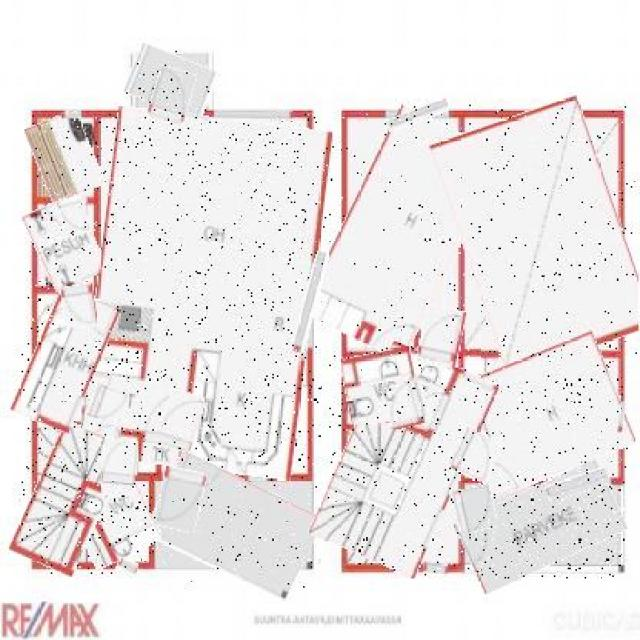door: (155, 468, 203, 530), (419, 306, 463, 368), (160, 391, 202, 451), (151, 68, 194, 124), (449, 431, 497, 480), (383, 382, 429, 429), (101, 438, 137, 497), (454, 488, 495, 534), (61, 285, 97, 326), (88, 386, 126, 423), (59, 197, 90, 237)
window: (299, 251, 323, 354), (546, 471, 609, 497), (386, 104, 449, 128), (212, 111, 292, 120), (115, 558, 138, 577), (423, 564, 448, 576), (617, 402, 625, 432), (63, 112, 82, 119)
zone: (88, 112, 322, 476), (448, 105, 637, 366), (323, 112, 480, 356), (328, 348, 480, 572), (457, 343, 628, 488), (150, 464, 318, 588), (458, 474, 624, 578), (21, 423, 116, 574), (22, 289, 109, 431), (71, 474, 155, 564), (29, 198, 102, 290), (31, 112, 98, 200), (127, 50, 216, 116), (343, 349, 420, 425)
